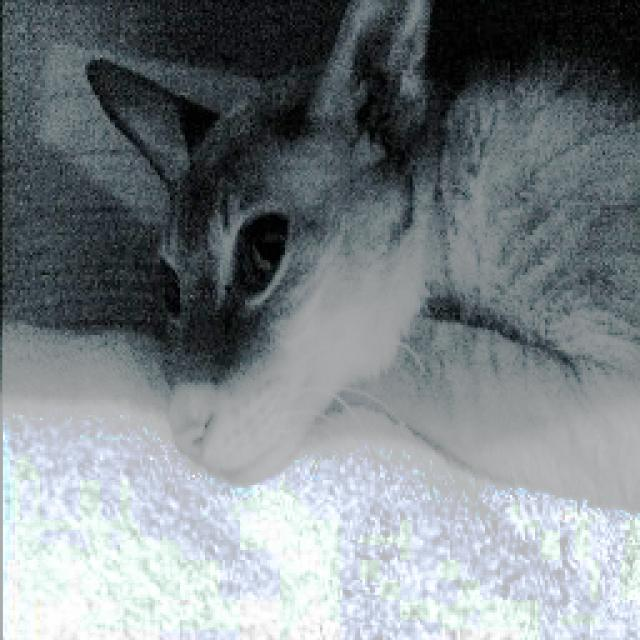cat: (75, 5, 640, 495)
